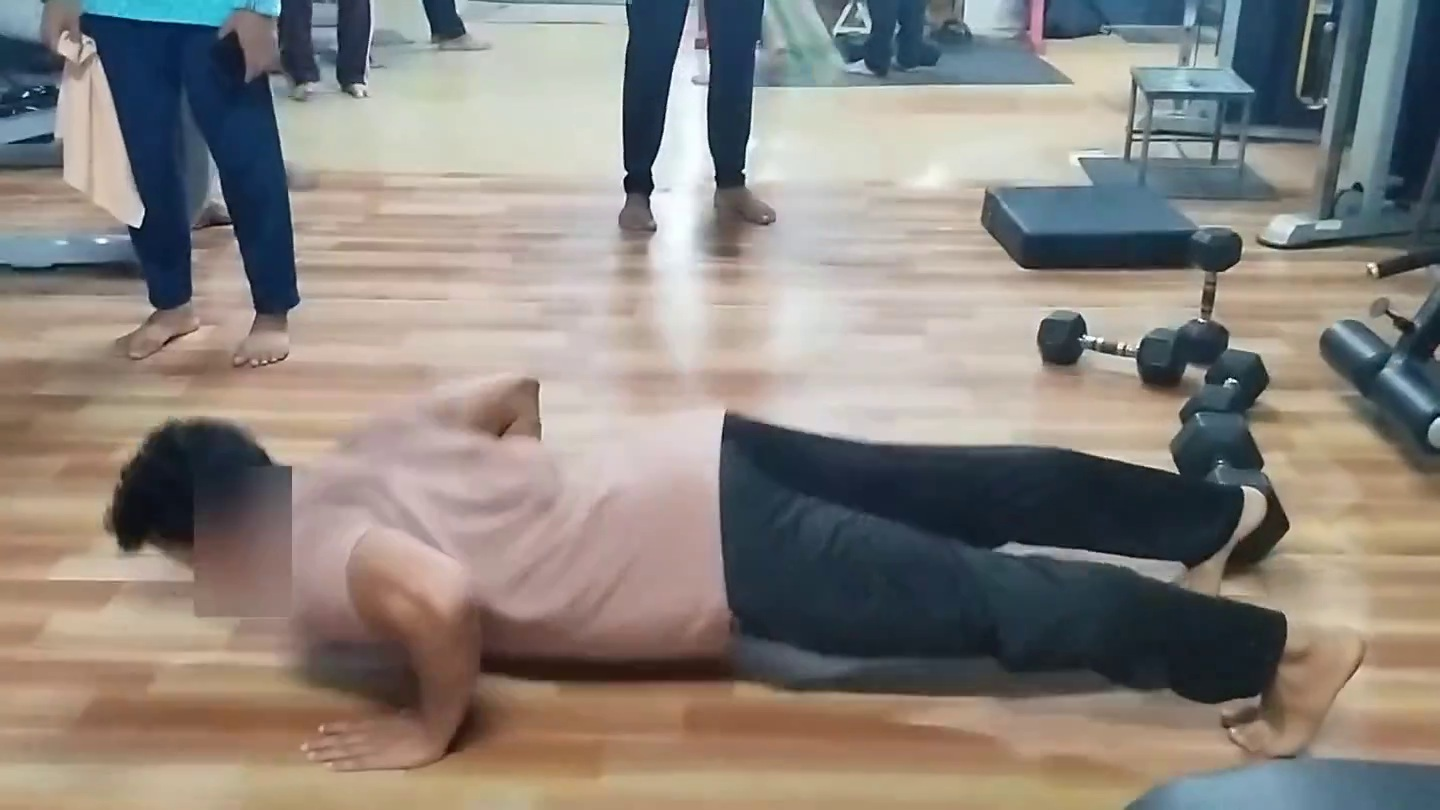push_up: (73, 338, 1436, 810)
